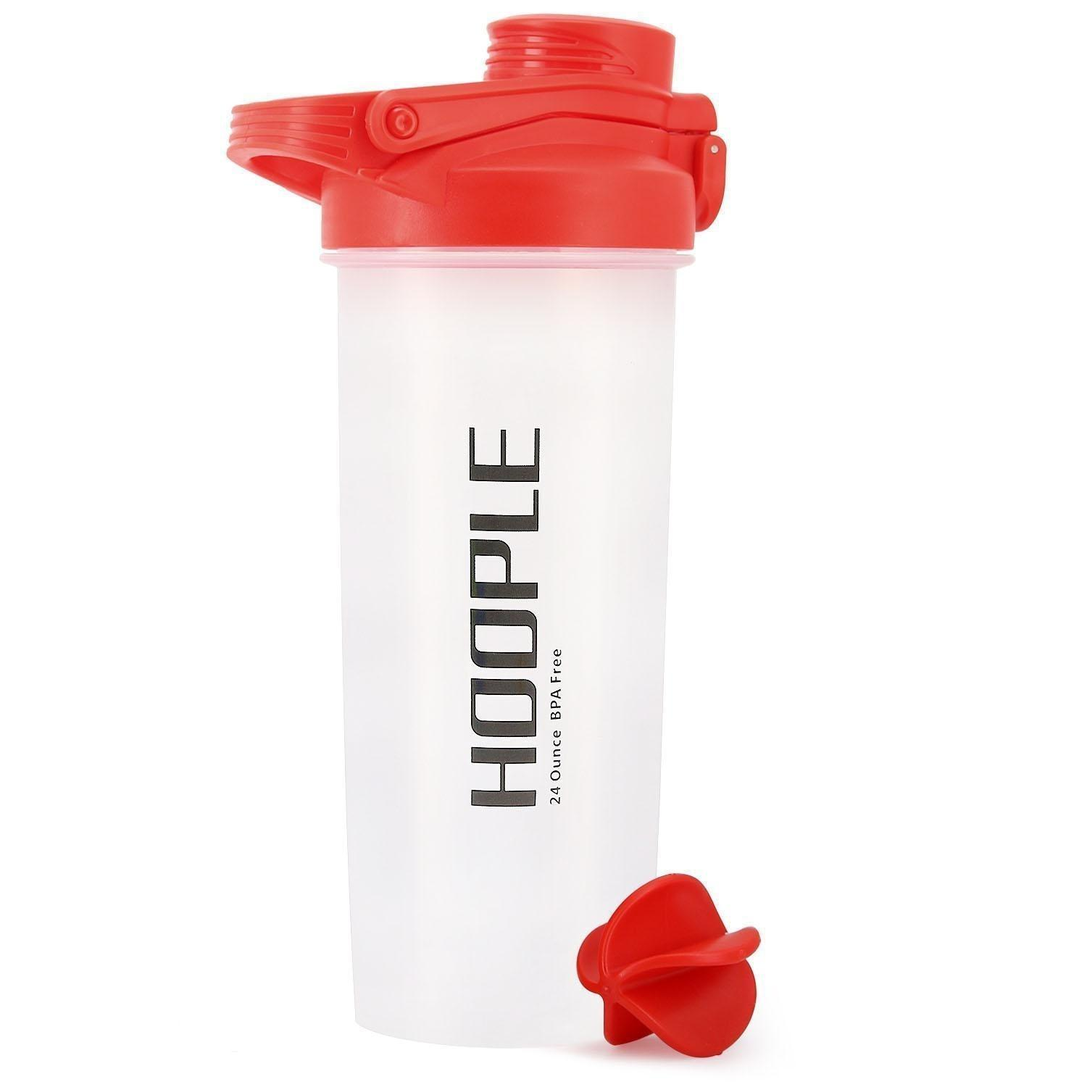gym bottle: (222, 6, 733, 1055)
